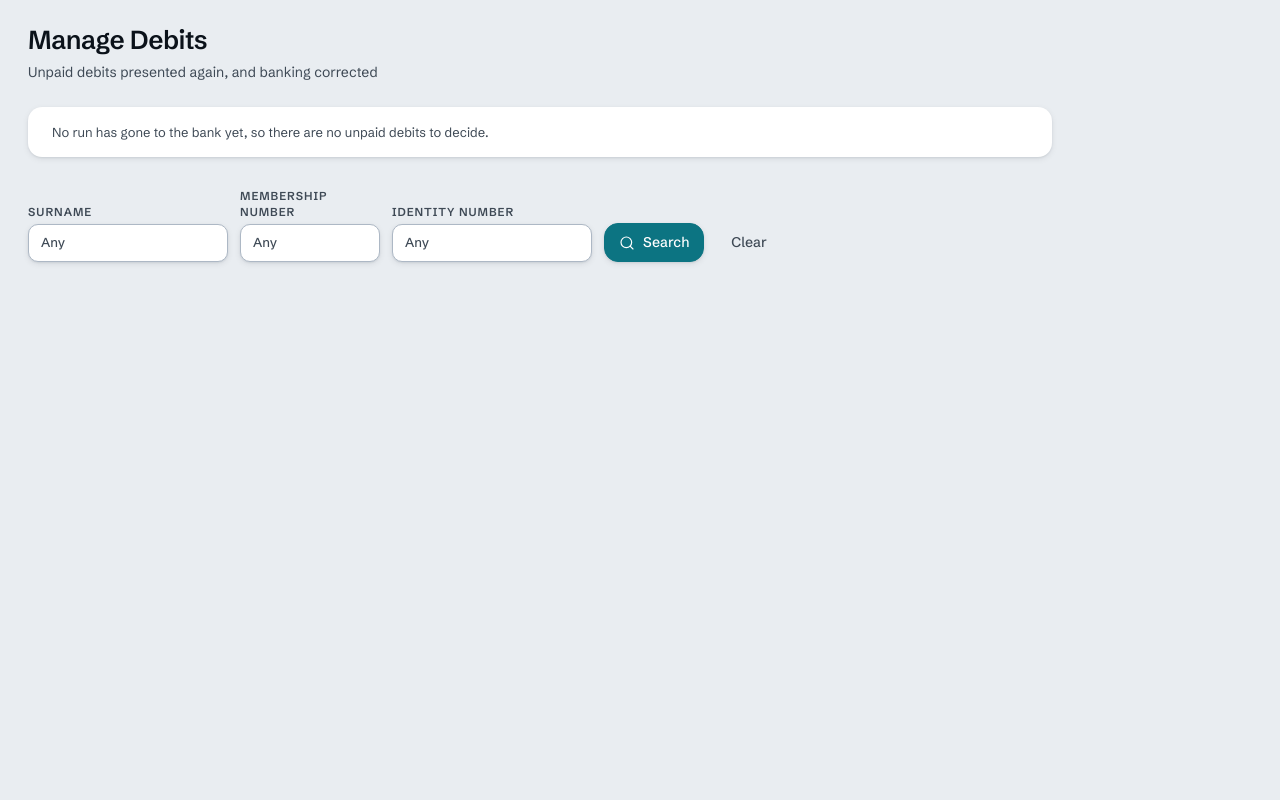
Test: AcbDebits, updating banking details › R3-F2: an update whose answer never arrived does not say nothing was written
In the field labelled "Surname": (128, 243) [28,224,228,262], type "Testperson"
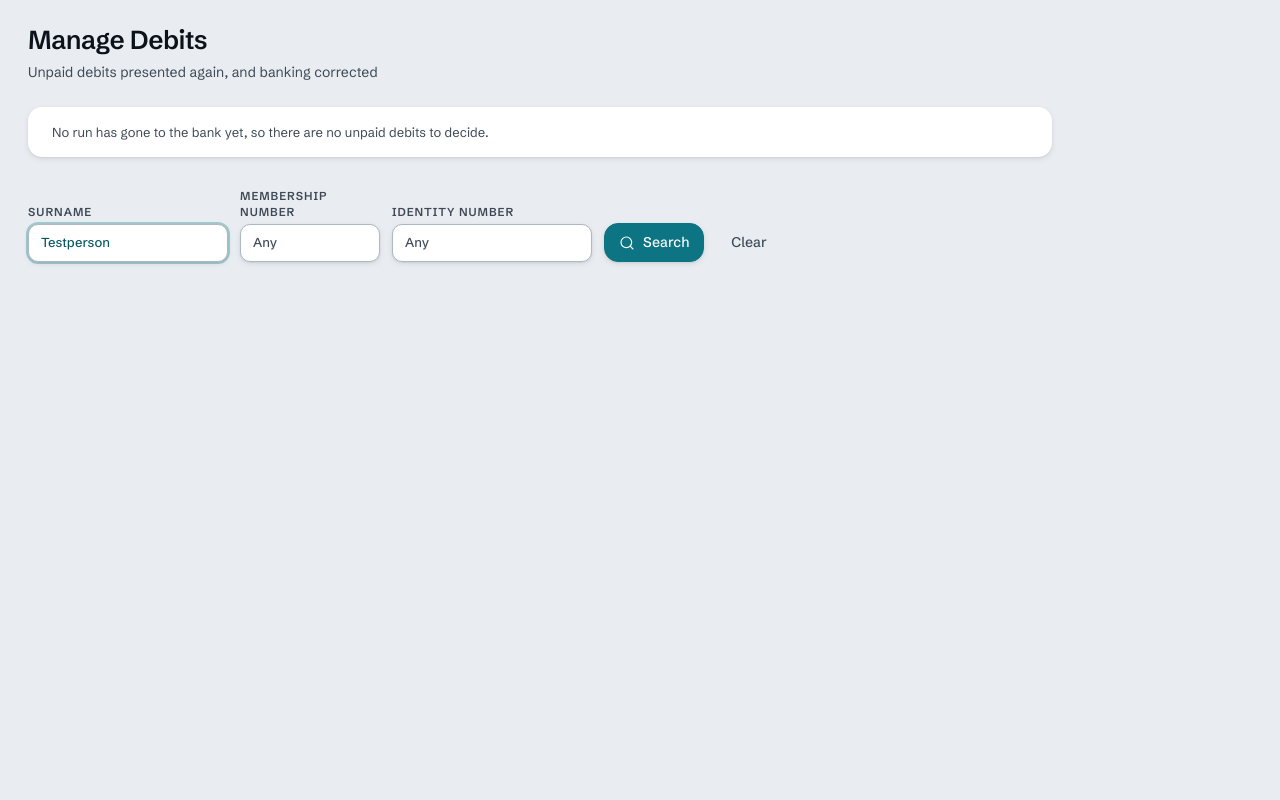
Click the button "Search": click(654, 243) [604,223,704,262]
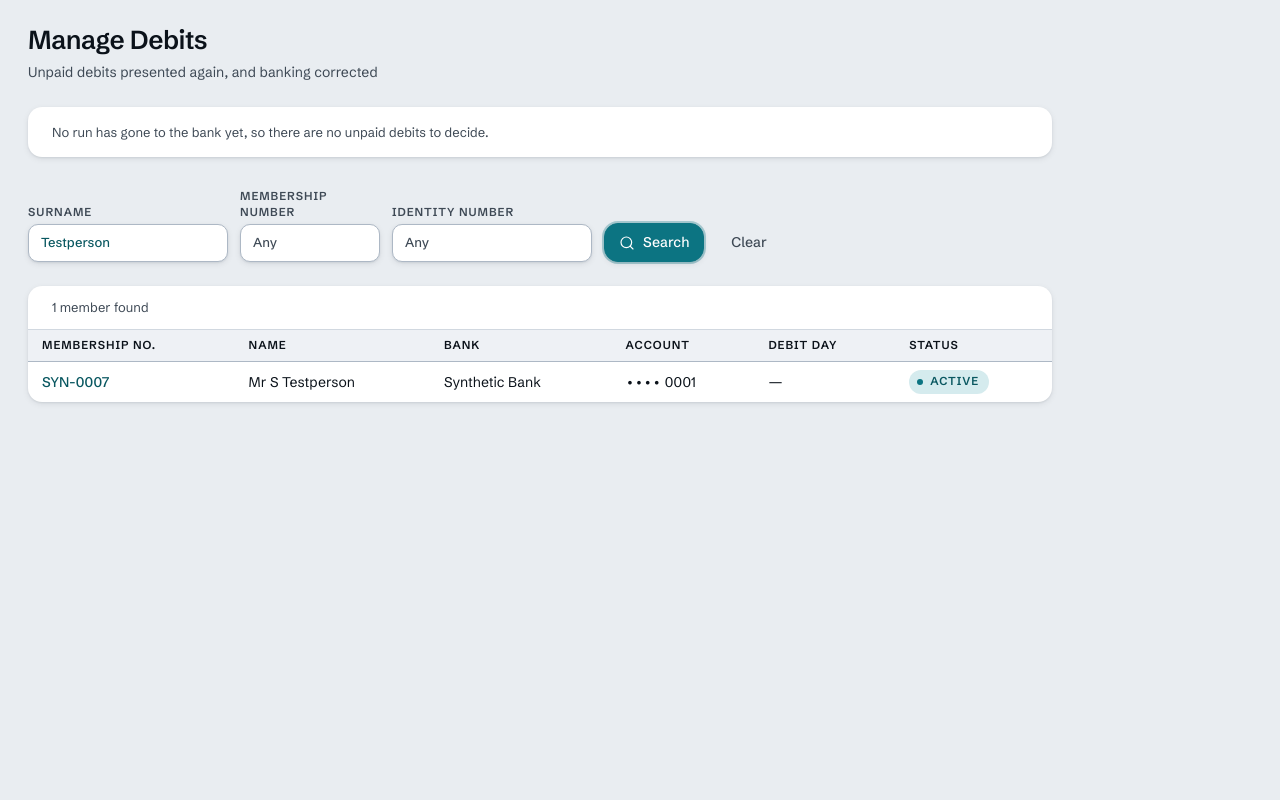
Click the button with aria-label "load banking details": click(76, 382) [42,372,109,392]
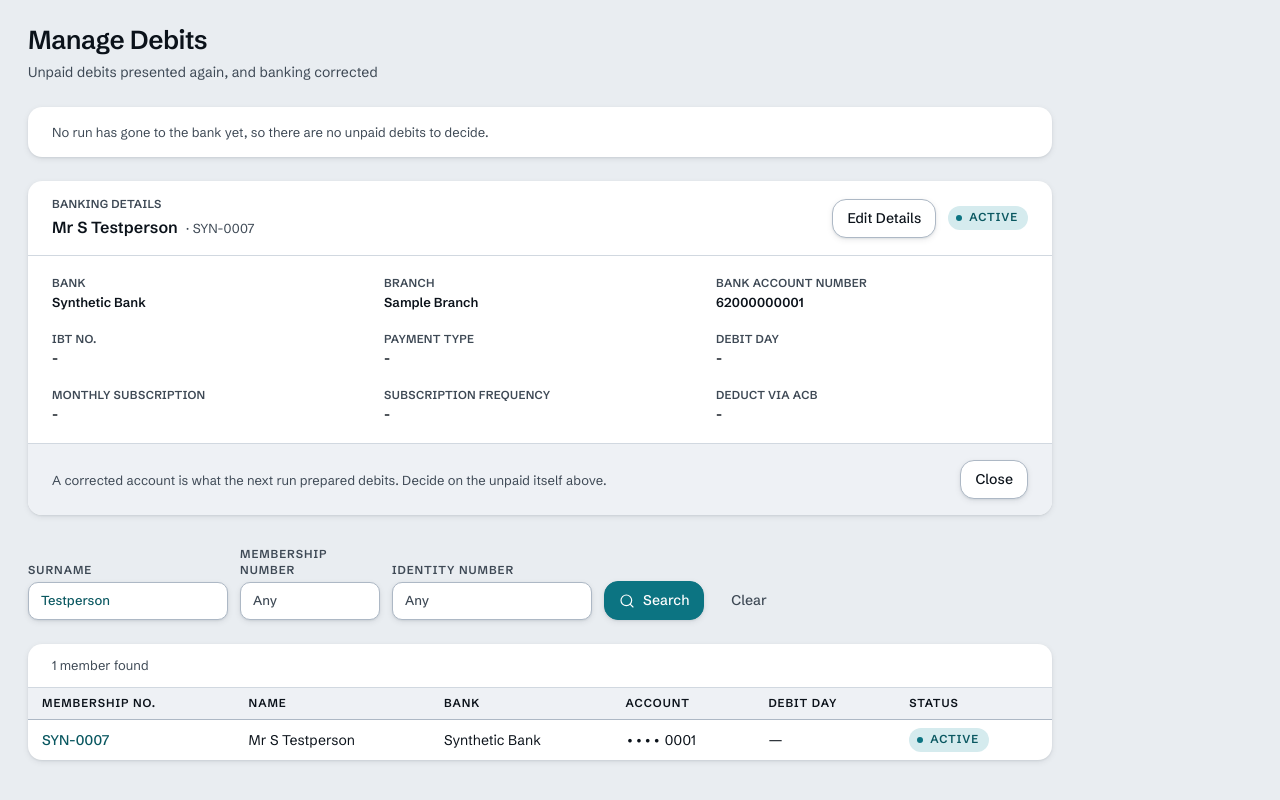
Click the button "Edit Details": click(884, 218) [832,199,936,238]
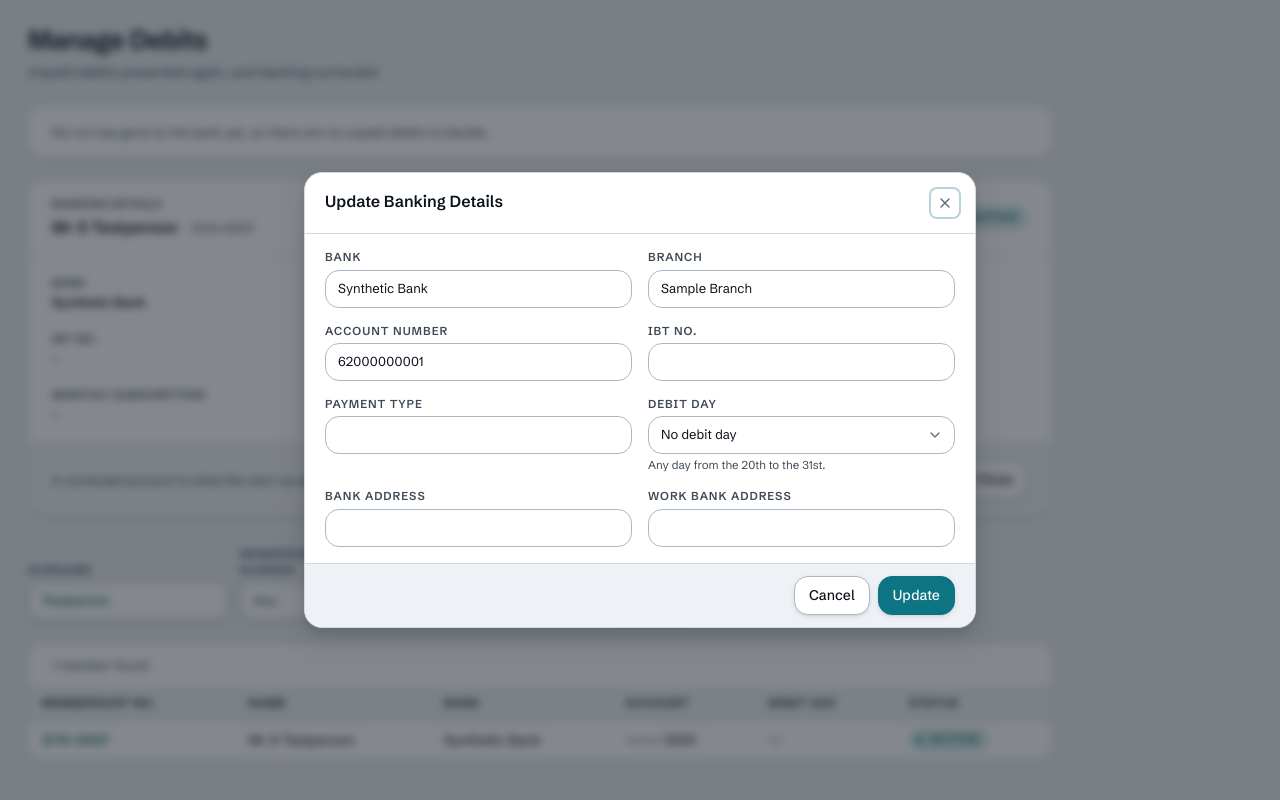
Click the button "Update": click(916, 595) [878,576,955,615]
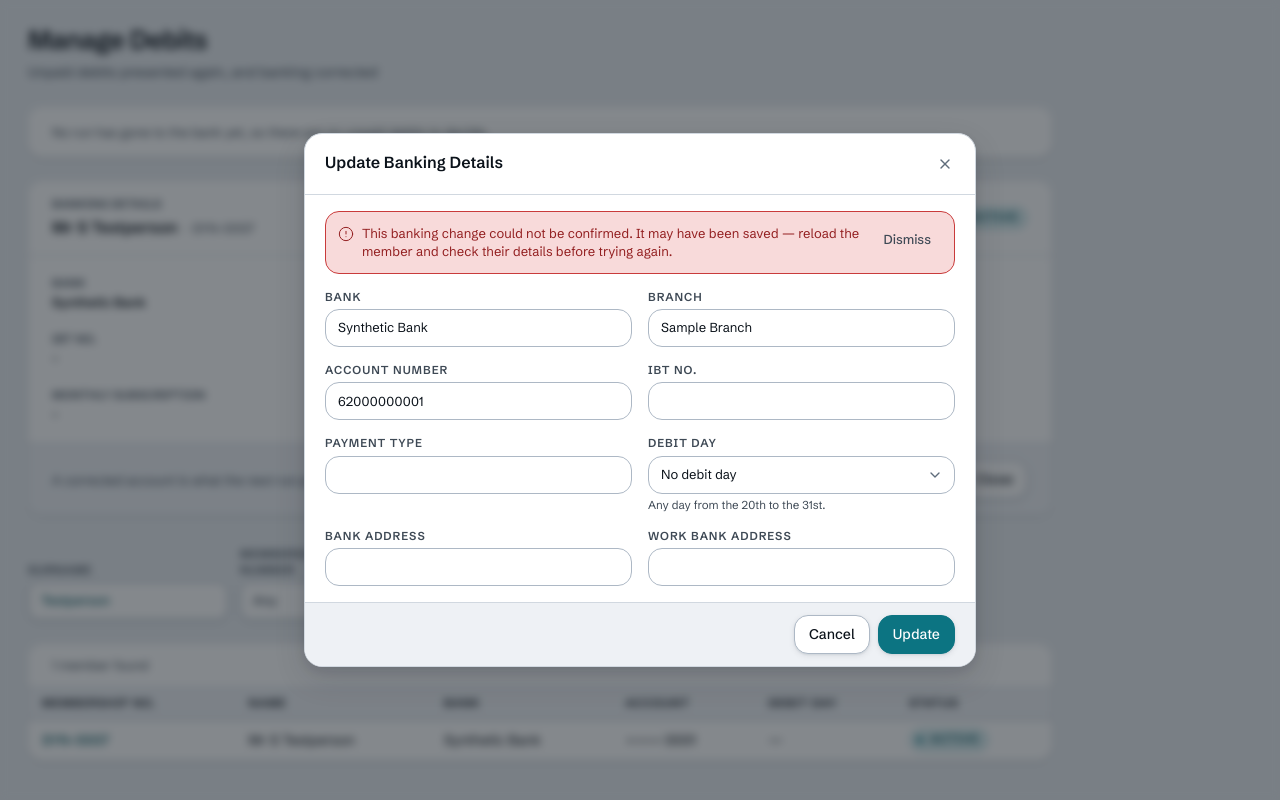
Now the message shows "could not be confirmed", box [362,225,859,259]
